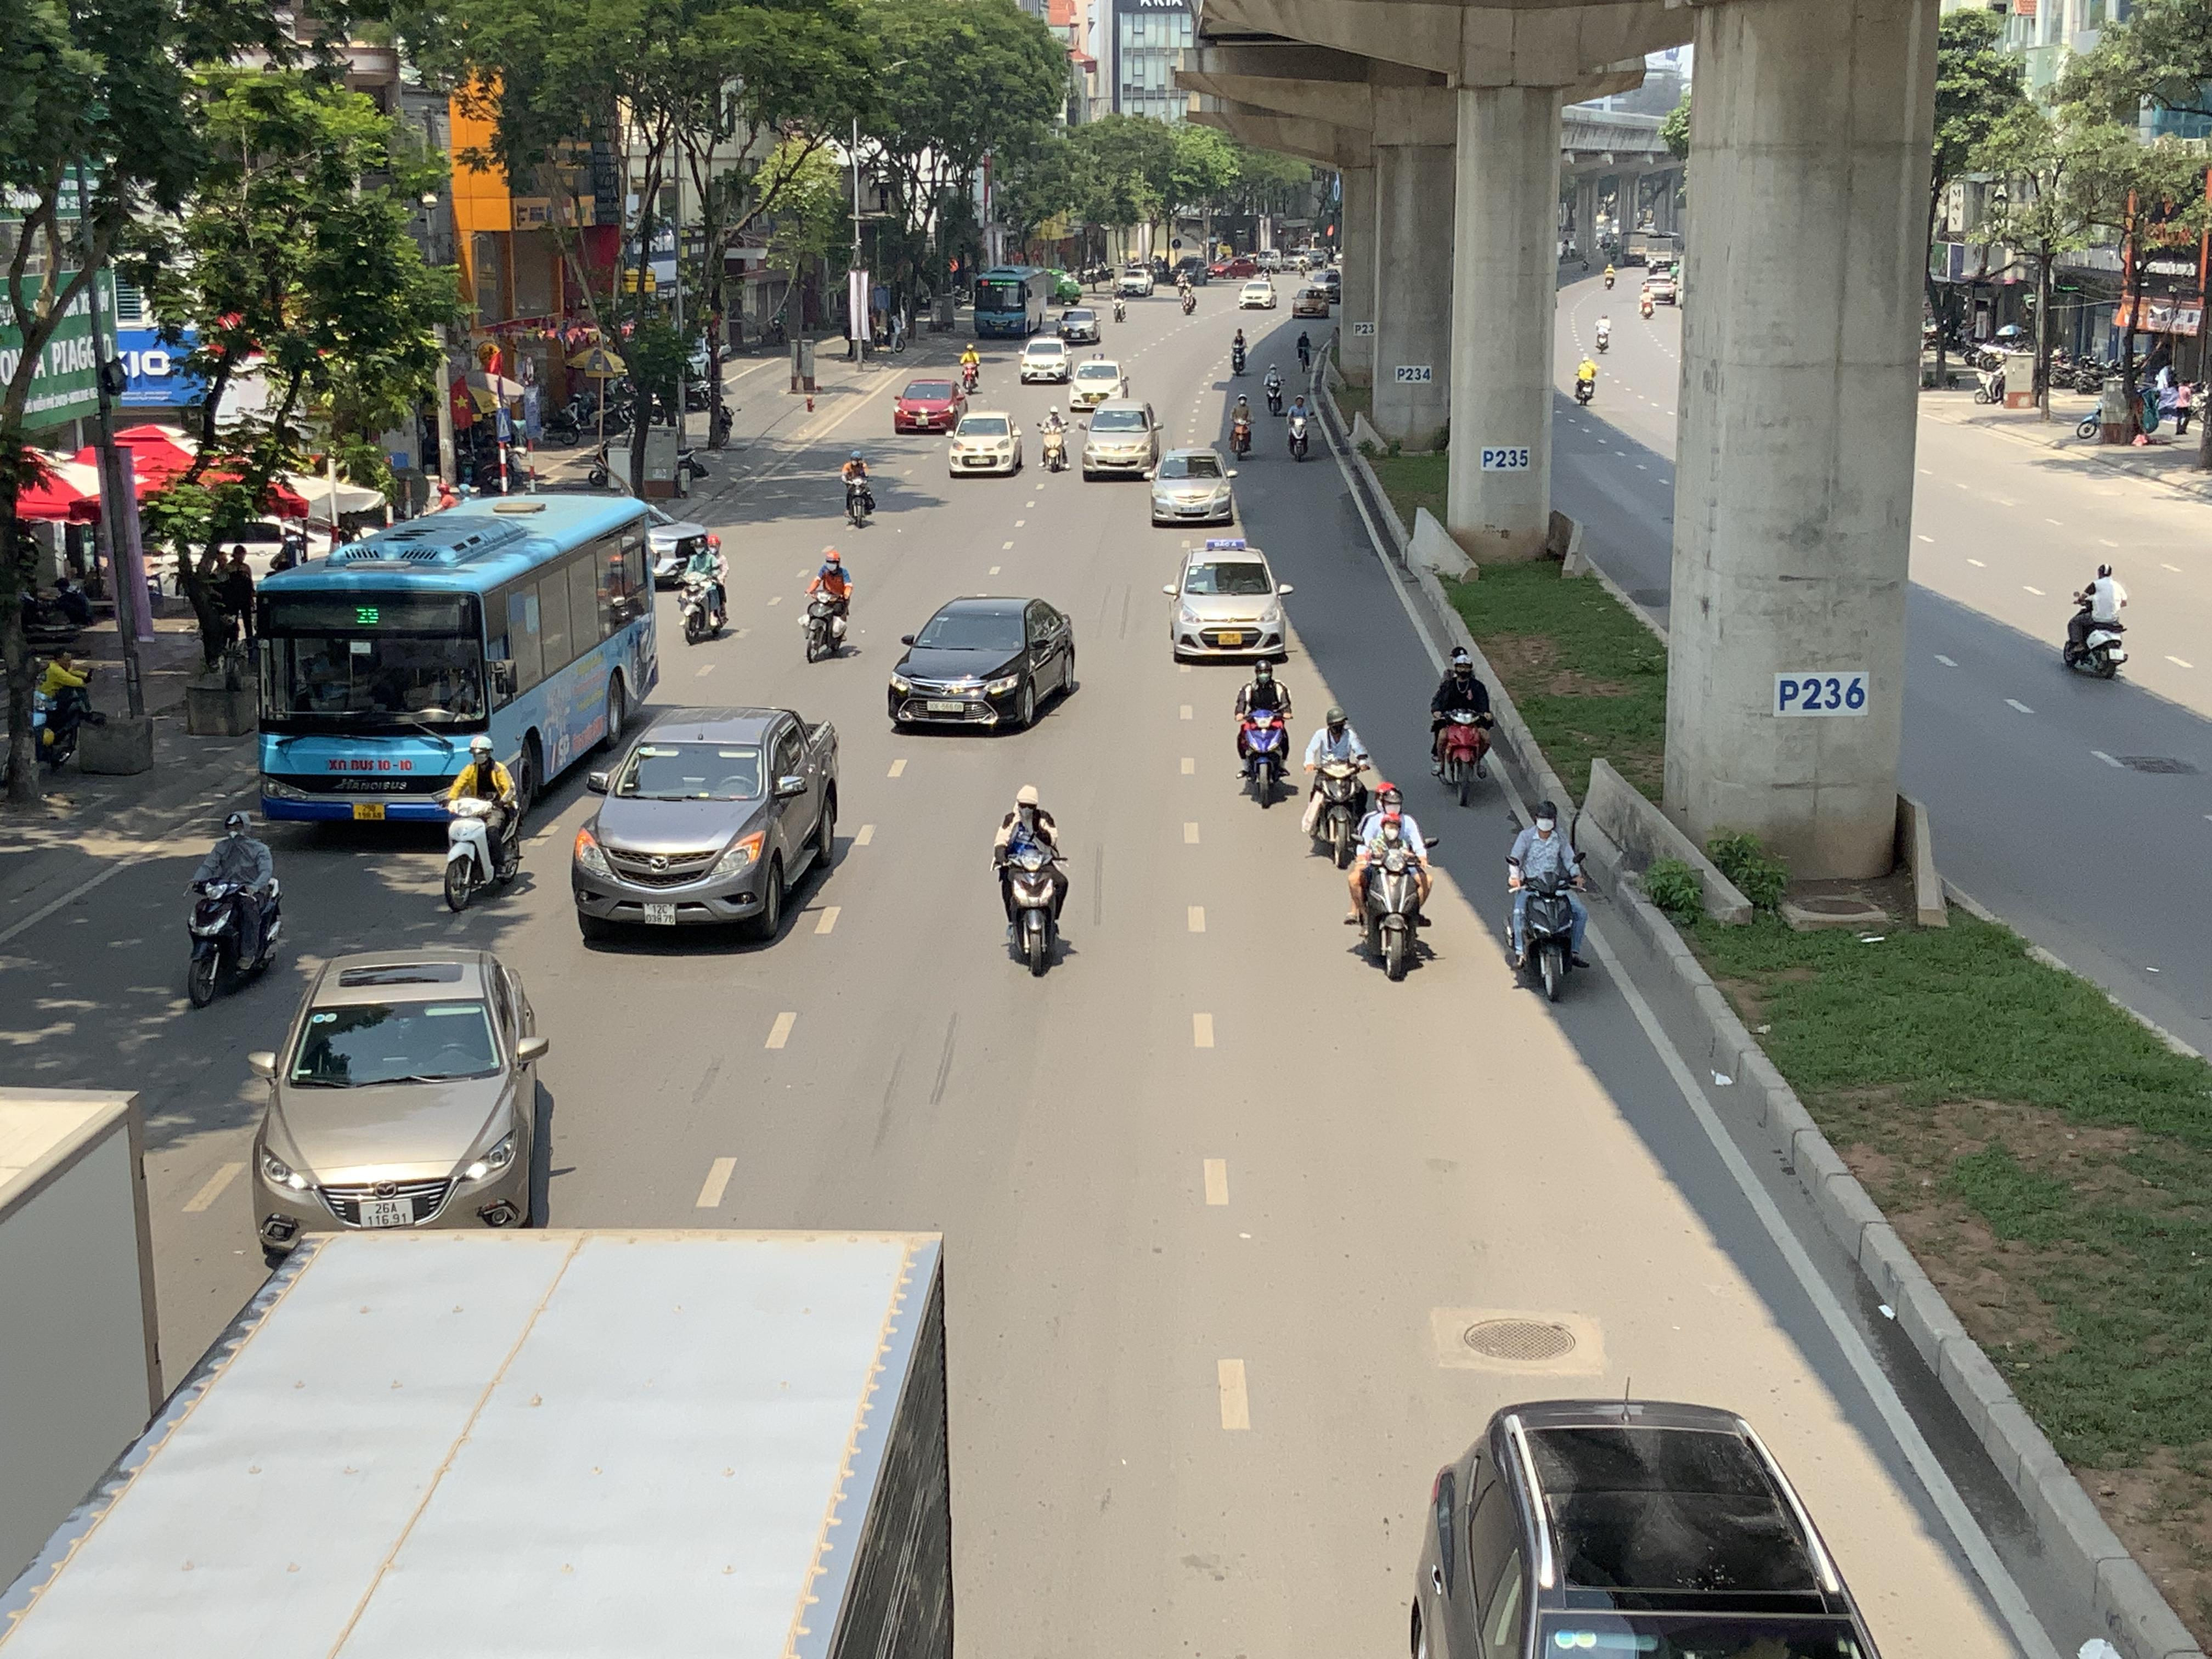BSD: (927, 701, 965, 713)
BSV: (357, 1199, 415, 1229), (644, 903, 676, 927), (352, 803, 385, 819)
bus: (253, 486, 662, 828), (974, 263, 1035, 338)
car: (244, 946, 559, 1265), (570, 704, 841, 945), (887, 592, 1080, 734), (1165, 540, 1292, 664), (1150, 448, 1238, 526), (1080, 401, 1162, 481), (946, 410, 1024, 476), (894, 376, 970, 434), (1068, 357, 1129, 410), (1019, 336, 1073, 383), (1055, 303, 1101, 343), (1237, 275, 1277, 310)
motorbike: (185, 809, 286, 1007), (1346, 782, 1437, 983), (1505, 800, 1592, 1004), (441, 739, 529, 911), (993, 784, 1071, 979), (1303, 706, 1372, 864), (1428, 650, 1494, 807), (1235, 657, 1294, 809), (30, 640, 94, 772), (2062, 559, 2130, 680), (801, 545, 855, 662), (678, 530, 732, 643), (841, 448, 876, 528), (1038, 404, 1069, 472), (1284, 390, 1312, 460), (1973, 350, 2008, 406), (1228, 392, 1254, 458), (958, 342, 982, 394), (1263, 362, 1284, 415)
